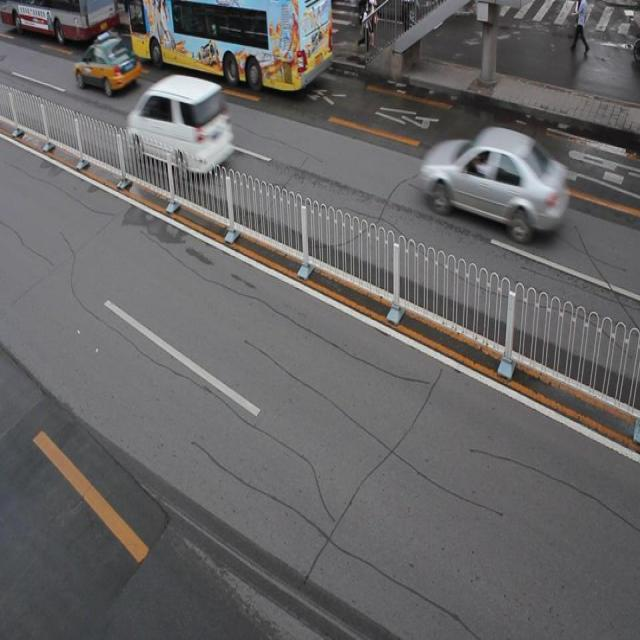car: (420, 125, 566, 240), (74, 33, 140, 96)
truck: (128, 74, 235, 176)
van: (127, 1, 332, 93), (1, 1, 116, 40)
